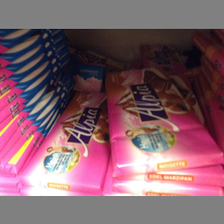chocolate: (106, 67, 224, 176), (25, 90, 109, 191)
